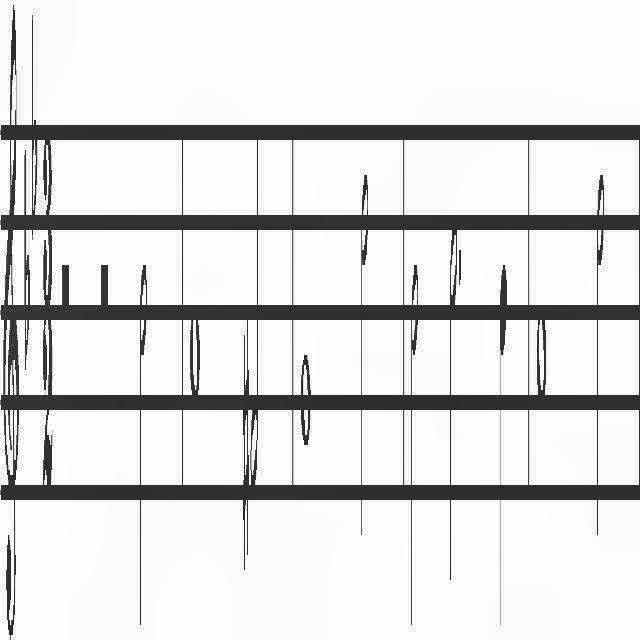Bass-clef: (3, 3, 20, 640)
Bemol: (22, 134, 30, 386), (30, 12, 38, 236)
Diez: (242, 308, 250, 586)
Full-note: (188, 294, 200, 414), (300, 341, 312, 457), (536, 297, 548, 411)
Half-note: (138, 245, 148, 640), (596, 157, 604, 558), (360, 163, 368, 561), (449, 203, 457, 591), (250, 124, 258, 508), (410, 258, 418, 630)
Quarter-note: (497, 254, 507, 618)
